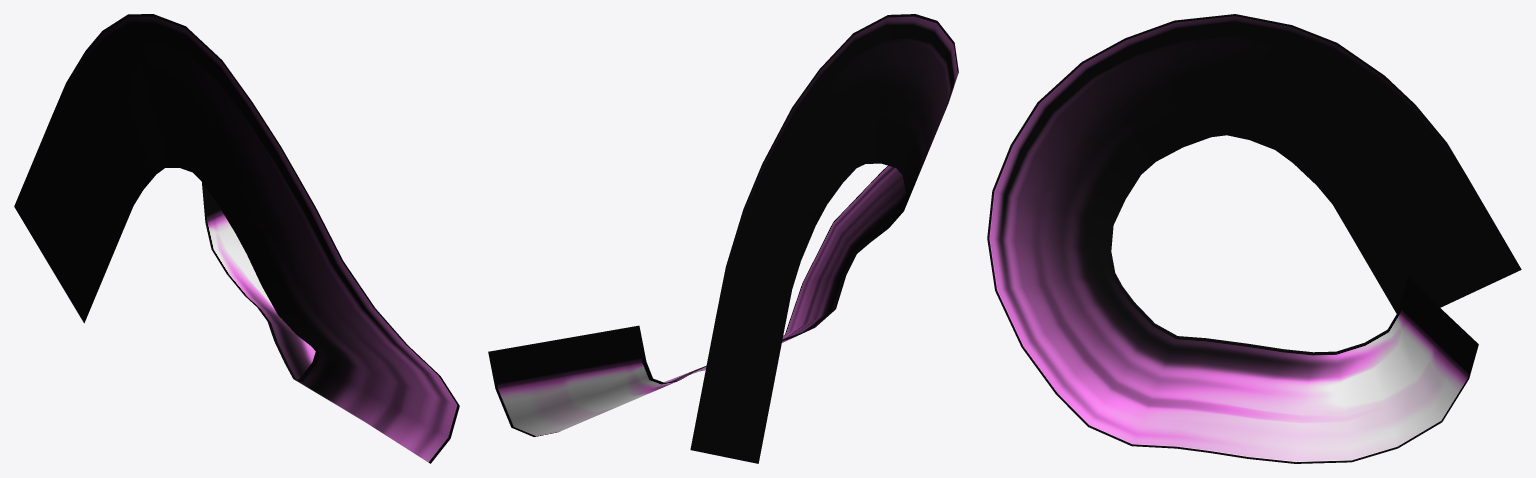
Rendered from Mesh_Snowwhite_001_wjl.FBX.
3 renders of one model, left to right at view 1: azimuth 30°, elevation 25°; view 2: azimuth 150°, elevation 25°; view 3: azimuth 270°, elevation 25°, orthographic. The views are drawn at different scales.
Visible parts, largest first — view 1: Plane002; view 2: Plane002; view 3: Plane002.
Part boxes in pixels (x1=…): Plane002: x1=14, y1=14, x2=459, y2=463; Plane002: x1=488, y1=14, x2=958, y2=463; Plane002: x1=987, y1=14, x2=1521, y2=463.
Size of the model in its own units: 129 by 222 by 299.
